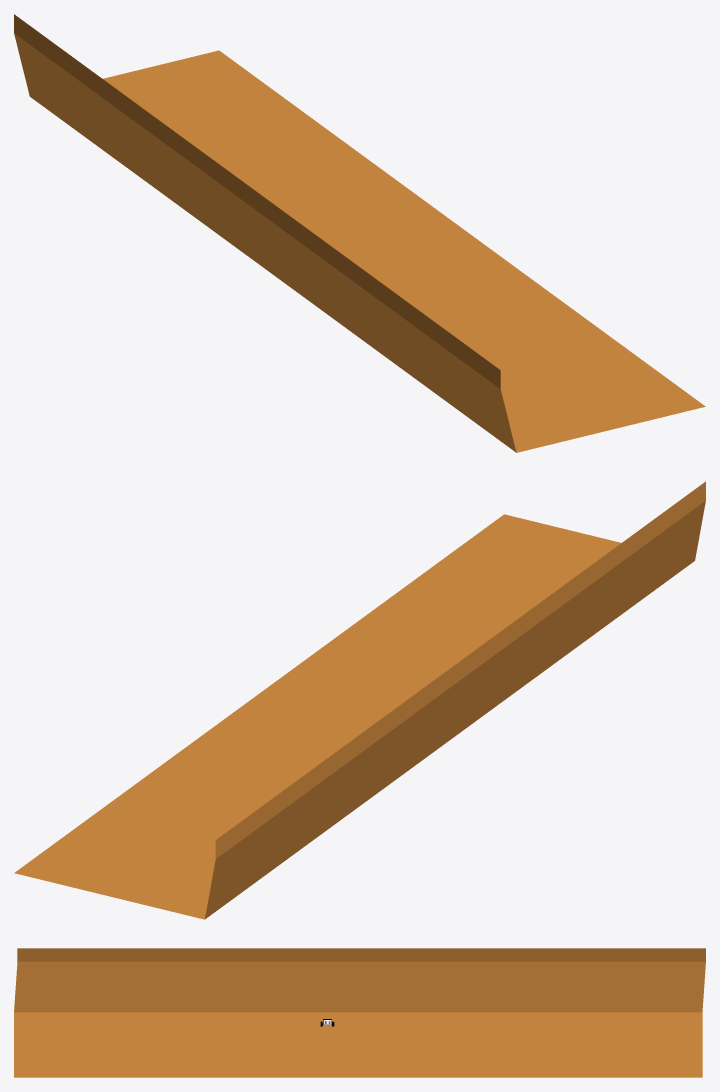
Rendered from pip-e-v0.1.gltf.
3 views of the same model, one above another, from view 1: azimuth 30°, elevation 25°; view 2: azimuth 150°, elevation 25°; view 3: azimuth 270°, elevation 25° (orthographic). The views are drawn at different scales.
Visible parts, largest first — view 1: Plane; view 2: Plane; view 3: Plane.
Part boxes in pixels (x1,y1,x2,y2): Plane: (14, 14, 705, 452); Plane: (14, 481, 705, 919); Plane: (14, 948, 705, 1077).
Size of the model in its own units: 1.83 by 0.7239 by 7.64.
5 materials, 1 textured.
